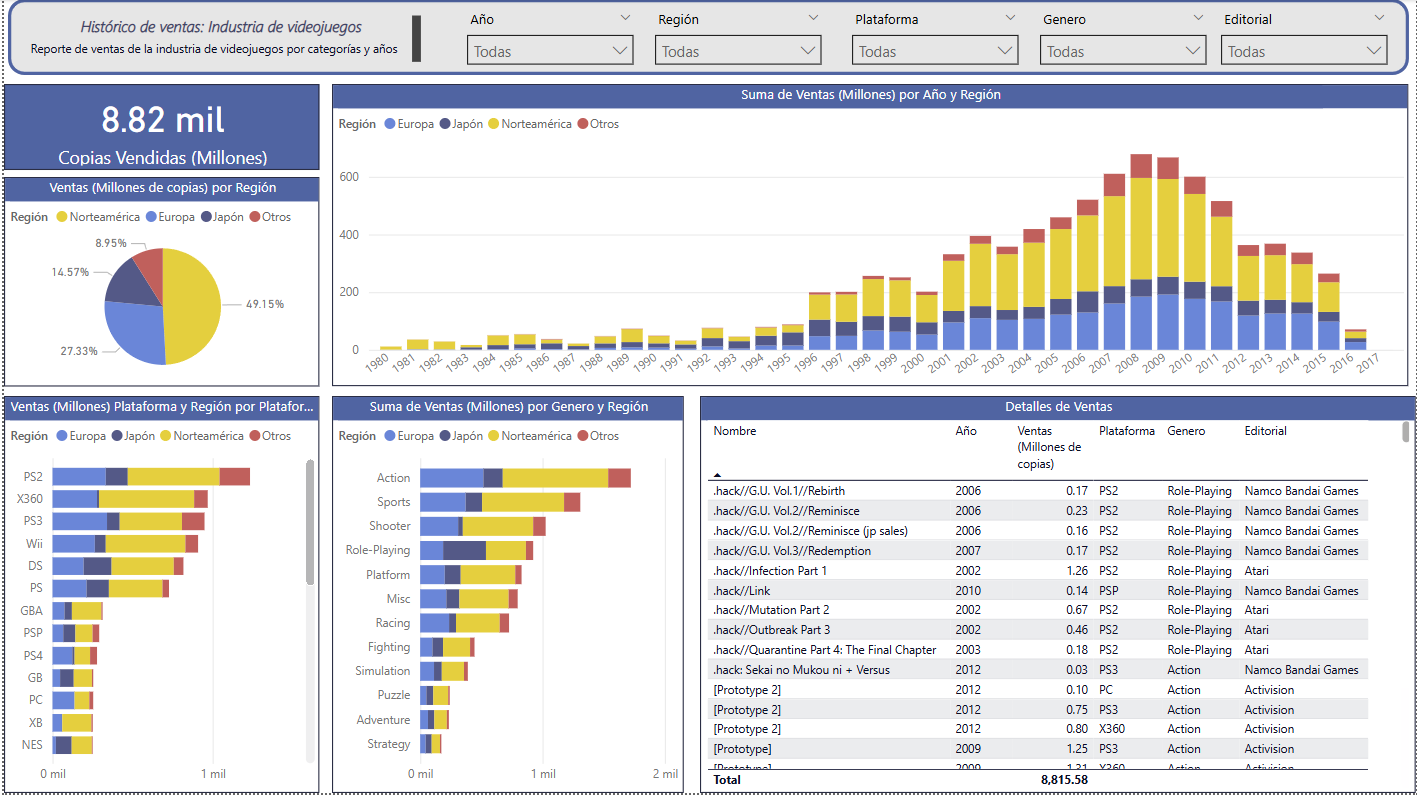

What the dashboard file says about the page in this screenshot:
{"tool":"powerbi","page":{"name":"Análisis Ventas","canvas":[1280,720],"ordinal":0},"visuals":[{"type":"shape","box":[3.9,0,1271.2,69.1],"z":0},{"type":"tableEx","title":"Detalles de Ventas","fields":{"Values":["Ventas Videojuegos.Nombre","Ventas Videojuegos.Año","Sum(Ventas Videojuegos.Ventas (Millones))","Ventas Videojuegos.Plataforma","Ventas Videojuegos.Genero","Ventas Videojuegos.Editorial"]},"box":[631.2,359.9,648.8,359.9],"z":1000},{"type":"columnChart","fields":{"Category":["Ventas Videojuegos.Año"],"Y":["Sum(Ventas Videojuegos.Ventas (Millones))"],"Series":["Ventas Videojuegos.Región"]},"box":[297.4,77.1,975.7,273.9],"z":2000},{"type":"pieChart","fields":{"Category":["Ventas Videojuegos.Región"],"Y":["Sum(Ventas Videojuegos.Ventas (Millones))"]},"box":[0,161.5,286,189.7],"z":3000},{"type":"barChart","fields":{"Category":["Ventas Videojuegos.Plataforma"],"Y":["Sum(Ventas Videojuegos.Ventas (Millones))"],"Series":["Ventas Videojuegos.Región"]},"box":[0,359.9,286,359.9],"z":4000},{"type":"barChart","fields":{"Category":["Ventas Videojuegos.Genero"],"Y":["Sum(Ventas Videojuegos.Ventas (Millones))"],"Series":["Ventas Videojuegos.Región"]},"box":[297.6,359.9,319,359.9],"z":5000},{"type":"card","fields":{"Values":["Sum(Ventas Videojuegos.Ventas (Millones))"]},"box":[0,76.8,286,77.8],"z":6000},{"type":"slicer","fields":{"Values":["Ventas Videojuegos.Año"]},"box":[409.5,4.9,171.2,79.8],"z":7000},{"type":"slicer","fields":{"Values":["Ventas Videojuegos.Región"]},"box":[580.7,4.9,171.2,79.8],"z":8000},{"type":"slicer","fields":{"Values":["Ventas Videojuegos.Plataforma"]},"box":[758.7,4.9,171.2,79.8],"z":9000},{"type":"slicer","fields":{"Values":["Ventas Videojuegos.Genero"]},"box":[929.8,4.9,171.2,79.8],"z":10000},{"type":"slicer","fields":{"Values":["Ventas Videojuegos.Editorial"]},"box":[1093.3,4.9,171.2,79.8],"z":11000},{"type":"textbox","box":[19.5,9.7,363.8,59.3],"z":11001}]}

Visuals, with their boxes in screenshot pixels (x1, y1, x2, y2), scaled from the page's 1280x720 canvas onto the 1417x795 screenshot:
shape: 4, 0, 1412, 76
"Detalles de Ventas" tableEx: 699, 397, 1416, 794
columnChart - Ventas Videojuegos.Año x Sum(Ventas Videojuegos.Ventas (Millones)): 329, 85, 1409, 388
pieChart - Ventas Videojuegos.Región x Sum(Ventas Videojuegos.Ventas (Millones)): 0, 178, 317, 388
barChart - Ventas Videojuegos.Plataforma x Sum(Ventas Videojuegos.Ventas (Millones)): 0, 397, 317, 794
barChart - Ventas Videojuegos.Genero x Sum(Ventas Videojuegos.Ventas (Millones)): 329, 397, 683, 794
card - Sum(Ventas Videojuegos.Ventas (Millones)): 0, 85, 317, 171
slicer - Ventas Videojuegos.Año: 453, 5, 643, 94
slicer - Ventas Videojuegos.Región: 643, 5, 832, 94
slicer - Ventas Videojuegos.Plataforma: 840, 5, 1029, 94
slicer - Ventas Videojuegos.Genero: 1029, 5, 1219, 94
slicer - Ventas Videojuegos.Editorial: 1210, 5, 1400, 94
textbox: 22, 11, 424, 76
